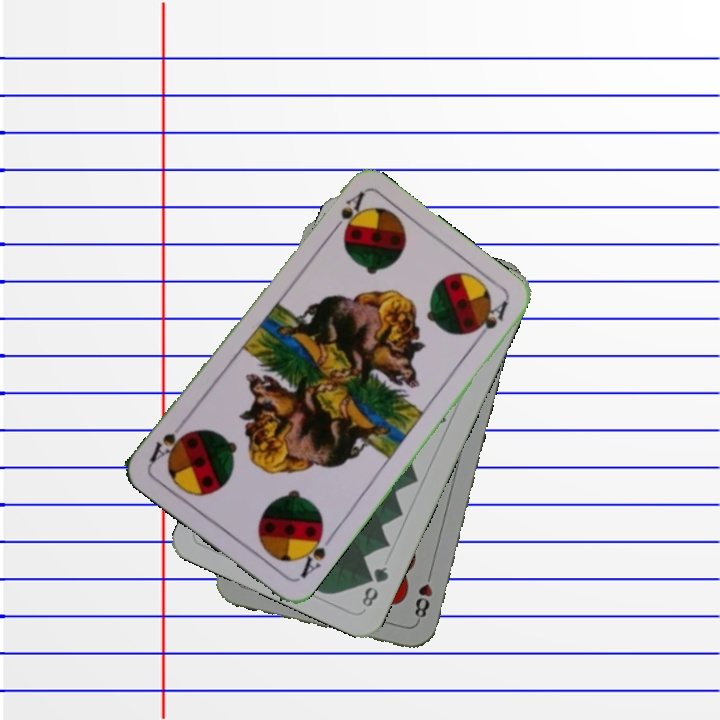G8: (357, 562, 391, 610)
H8: (410, 566, 435, 625)
SA: (325, 188, 367, 239), (295, 525, 329, 581)
